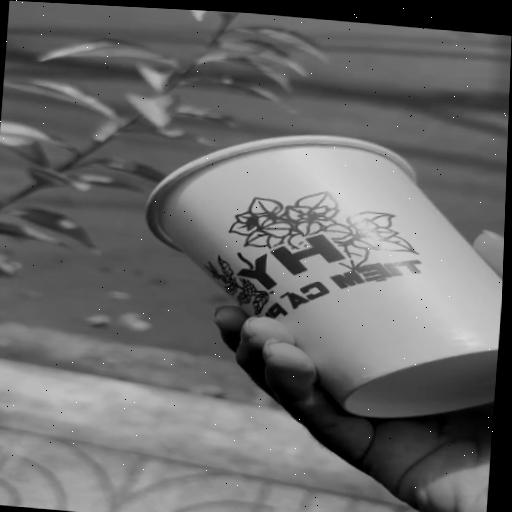Ly_giay: (146, 135, 503, 417)
